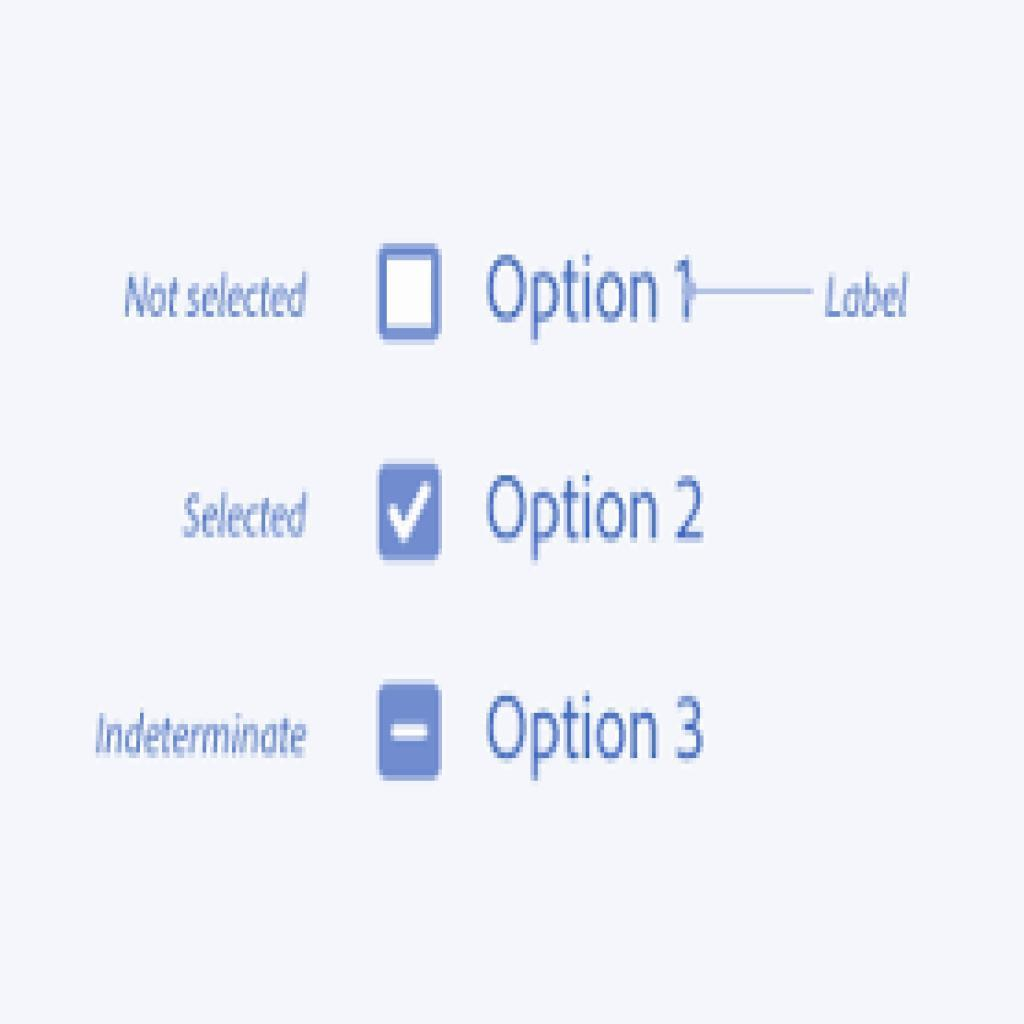checkbox: (377, 465, 441, 562), (380, 246, 440, 341)
